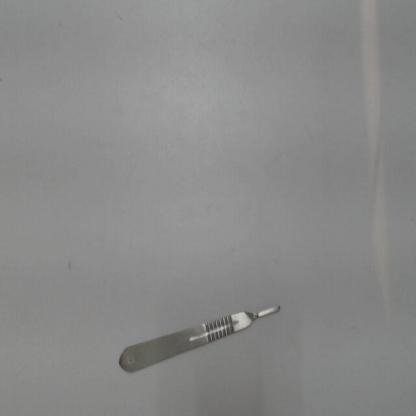No.3 BP Handle: (117, 293, 290, 383)
